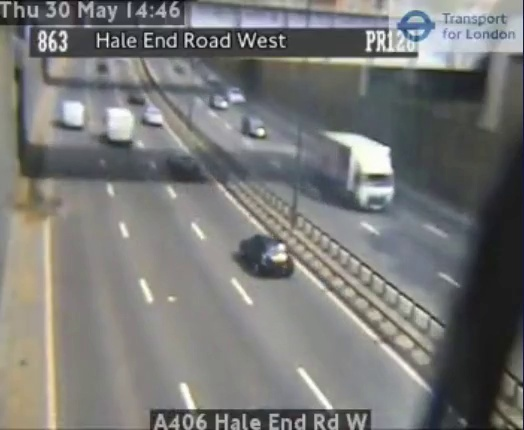car: (241, 236, 293, 276)
van: (104, 108, 135, 141), (61, 102, 83, 126)
